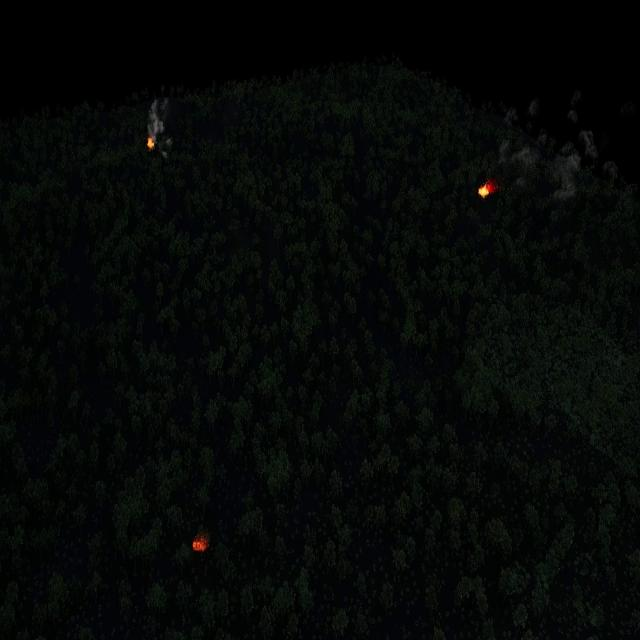fire: (193, 534, 210, 552), (480, 181, 495, 198), (147, 136, 154, 150)
smoke: (498, 91, 619, 198), (147, 99, 172, 164)
